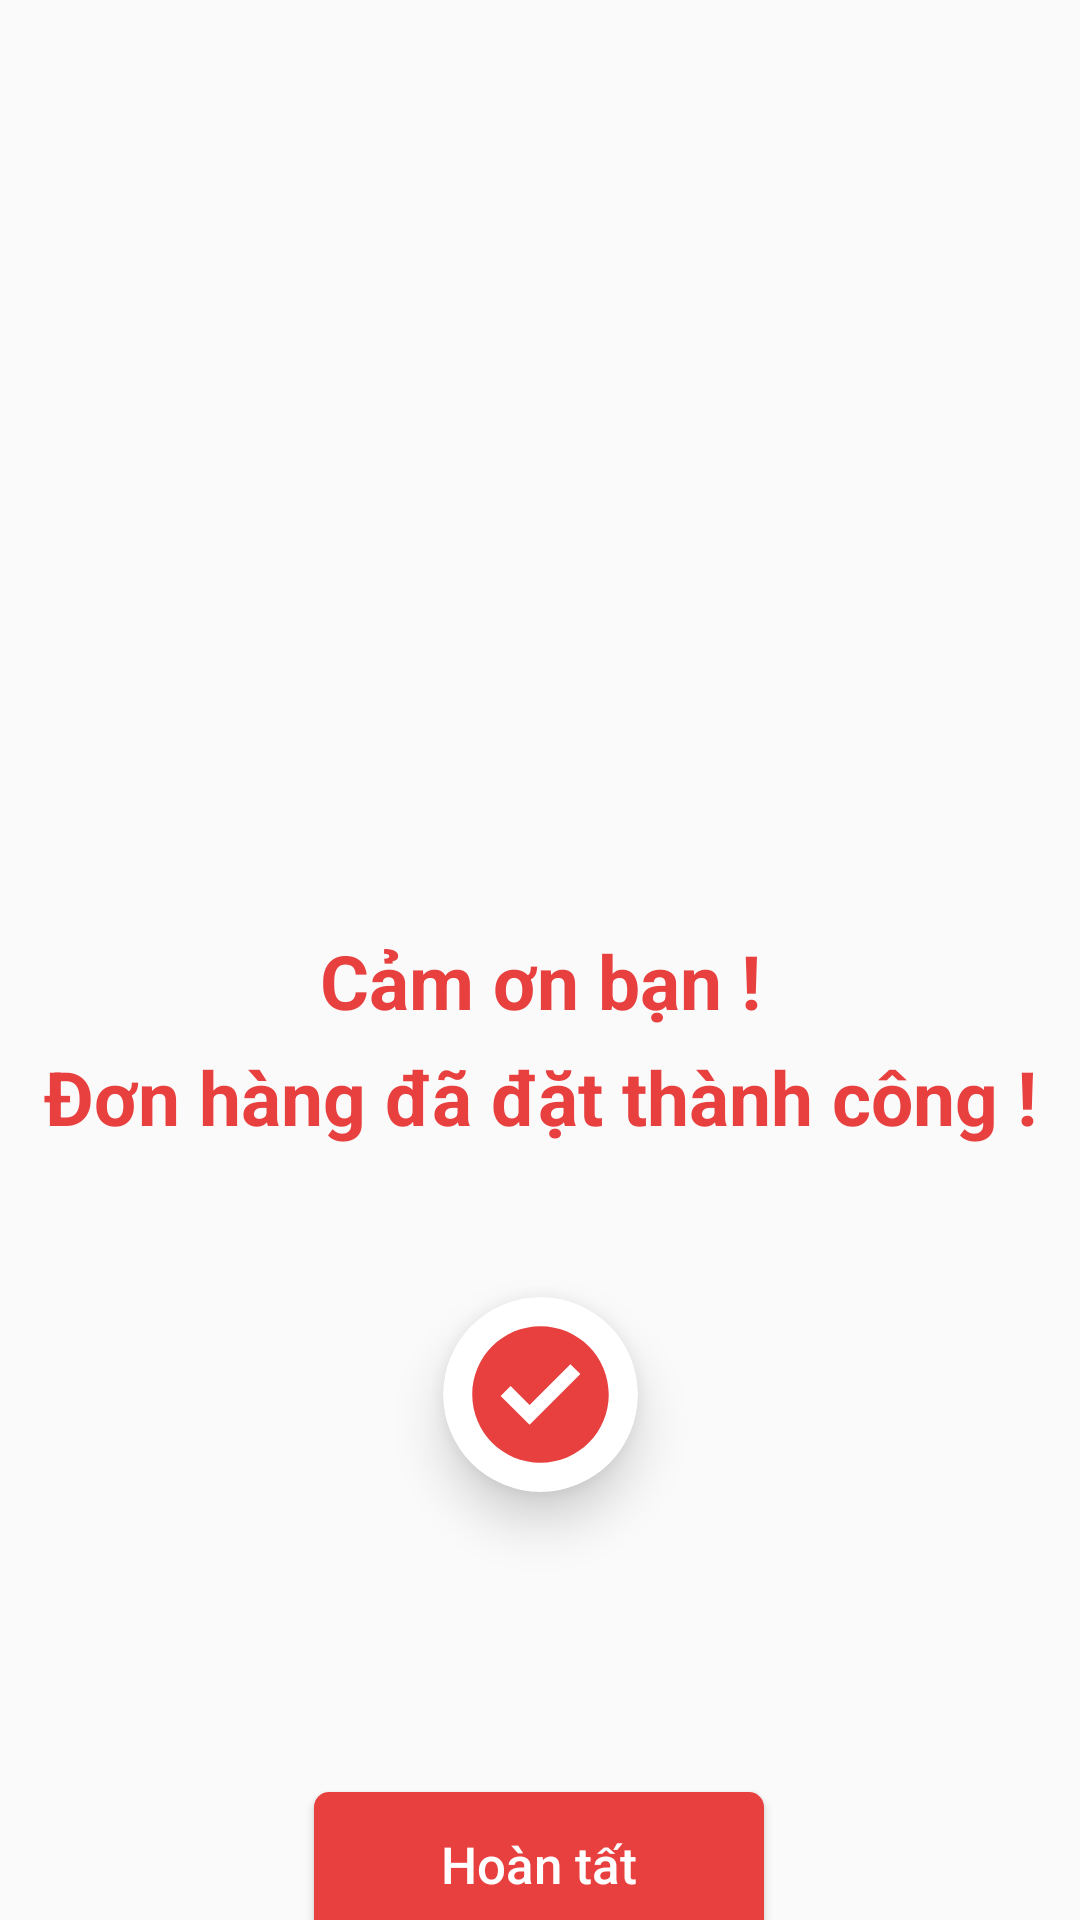

Icon click points for this 1080px×1920px phone screenshot, format [x,y]:
tick: [540,1394]
